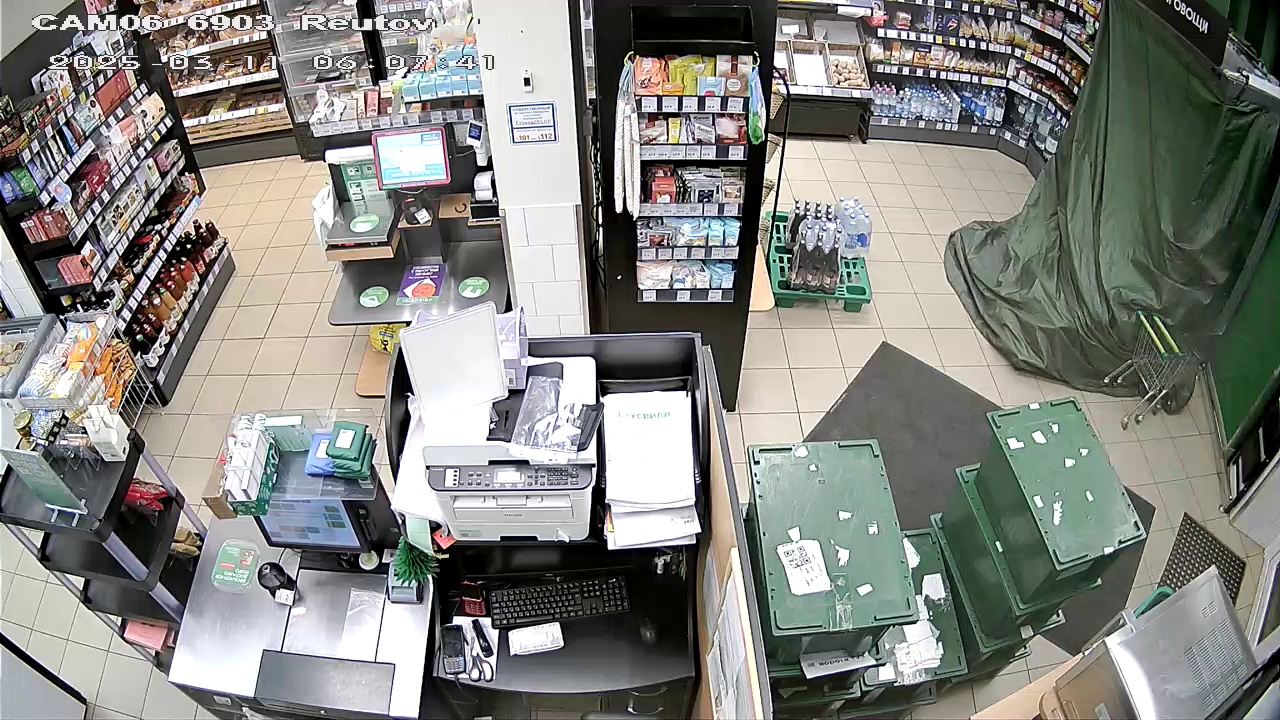dome: (946, 9, 1269, 403)
